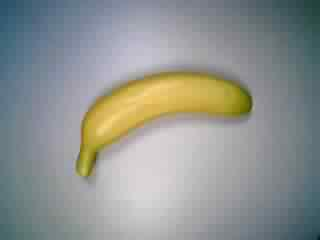banana: (72, 64, 261, 181)
